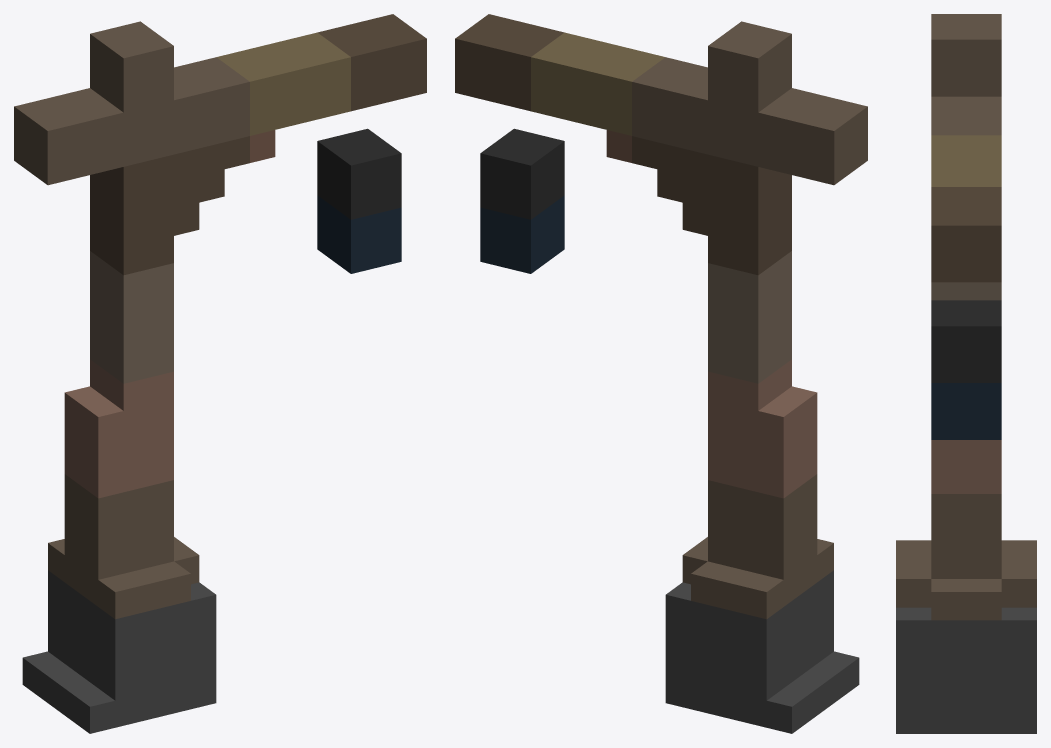
File: Lantern_064B_vox.glb
3 renders of one model, left to right at view 1: azimuth 30°, elevation 25°; view 2: azimuth 150°, elevation 25°; view 3: azimuth 270°, elevation 25°, orthographic. The views are drawn at different scales.
Size of the model in its own units: 1.22 by 2 by 0.375.
